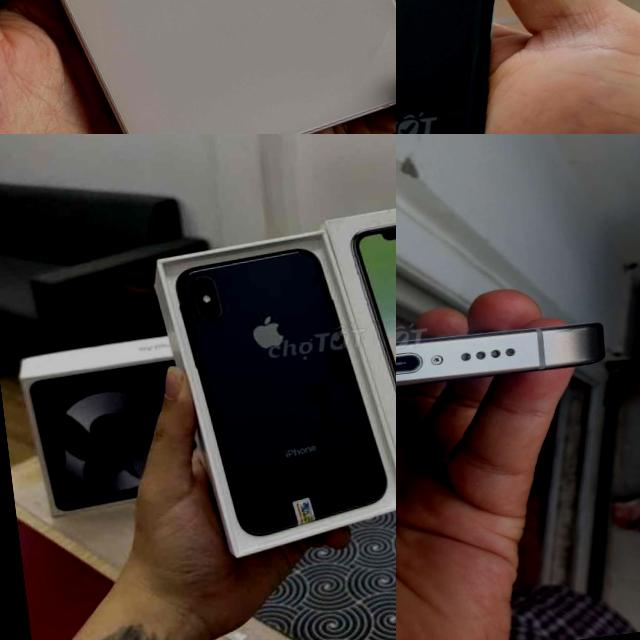gen_12_13: (0, 0, 396, 134)
gen_15: (396, 275, 640, 470)
gen_x_xs: (148, 223, 396, 558), (396, 0, 492, 134)
